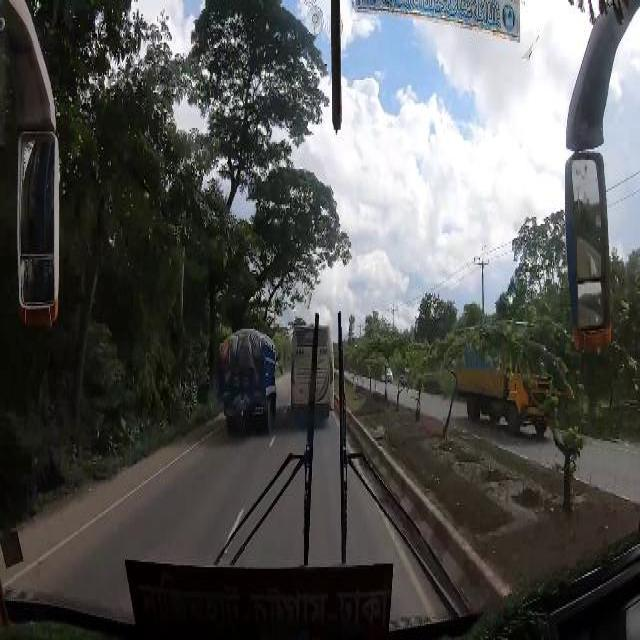18: (452, 326, 554, 436), (218, 326, 276, 431)
Truck: (290, 327, 334, 413)
